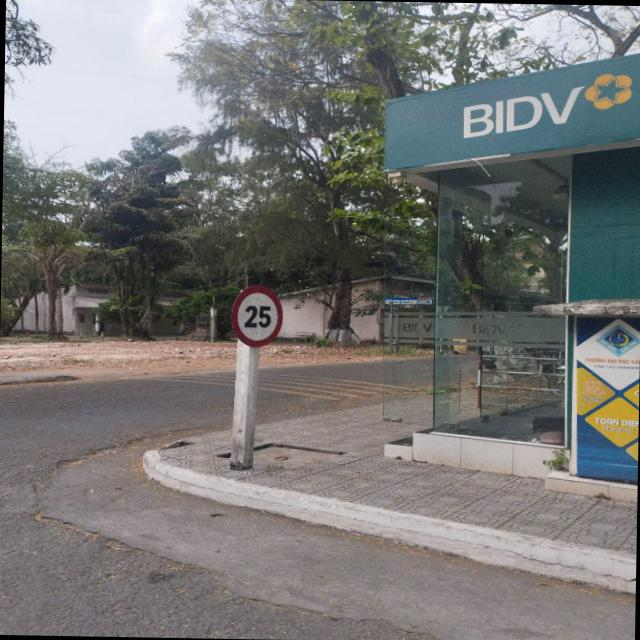Tre_Em: (228, 284, 286, 348)
